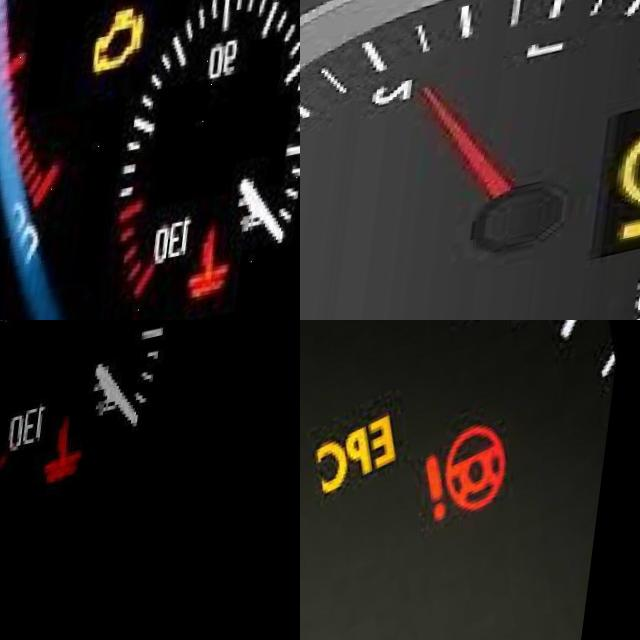Electronic Power Steering: (428, 440, 522, 551)
High Engine Coolant Temperature: (47, 424, 105, 507)
